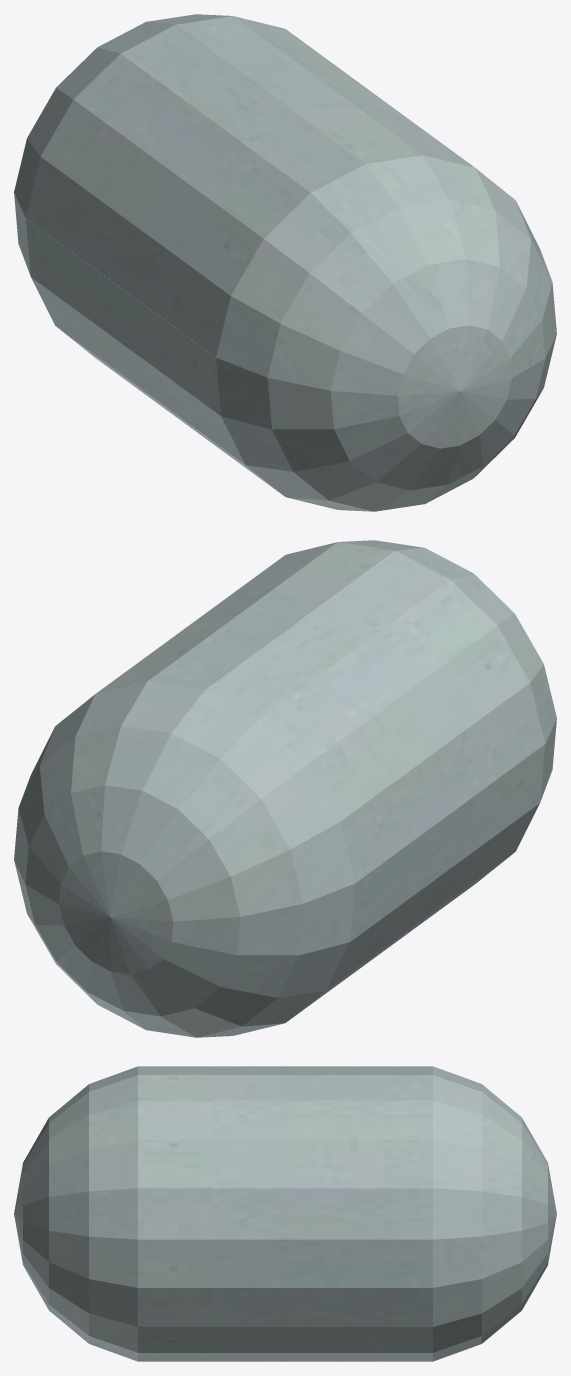
File: zb006-geode.glb
The picture shows the model from 3 angles, top to bottom: view 1: azimuth 30°, elevation 25°; view 2: azimuth 150°, elevation 25°; view 3: azimuth 270°, elevation 25°; orthographic projection. The views are drawn at different scales.
Parts seen in each view (by area): view 1: Node; view 2: Node; view 3: Node.
Boxes of the visible parts, left/top/right/bottom form: Node: left=14, top=14, right=556, bottom=511; Node: left=14, top=540, right=556, bottom=1037; Node: left=14, top=1066, right=556, bottom=1361.
Bounding box in the file's own units: 0.0491 × 0.0491 × 0.0906.
1 material, 1 textured.
